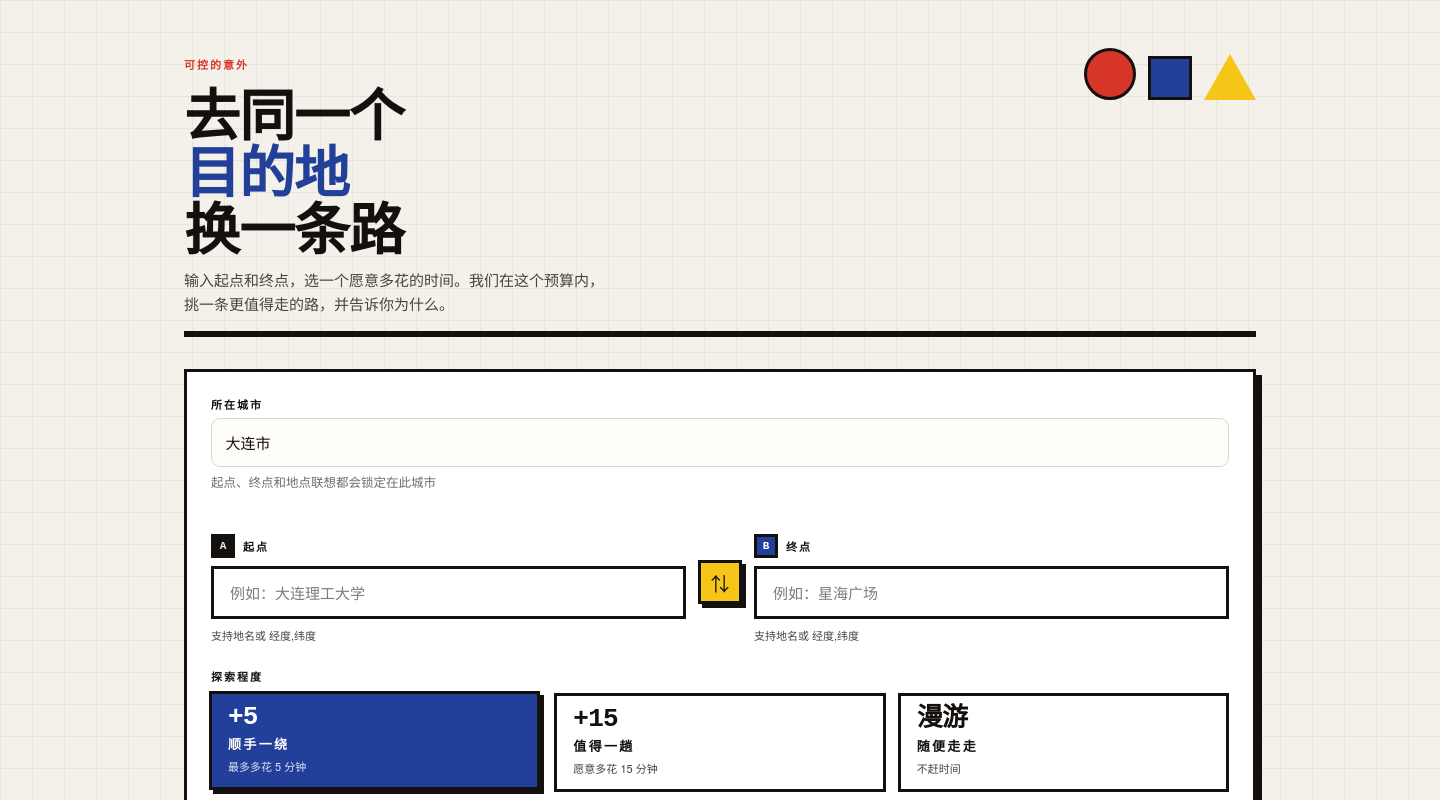
HomeView › swaps origin and destination
In the dropdown labelled "A 起点": [448, 593] box top-left (211, 566), bottom-right (686, 619), type "A地"
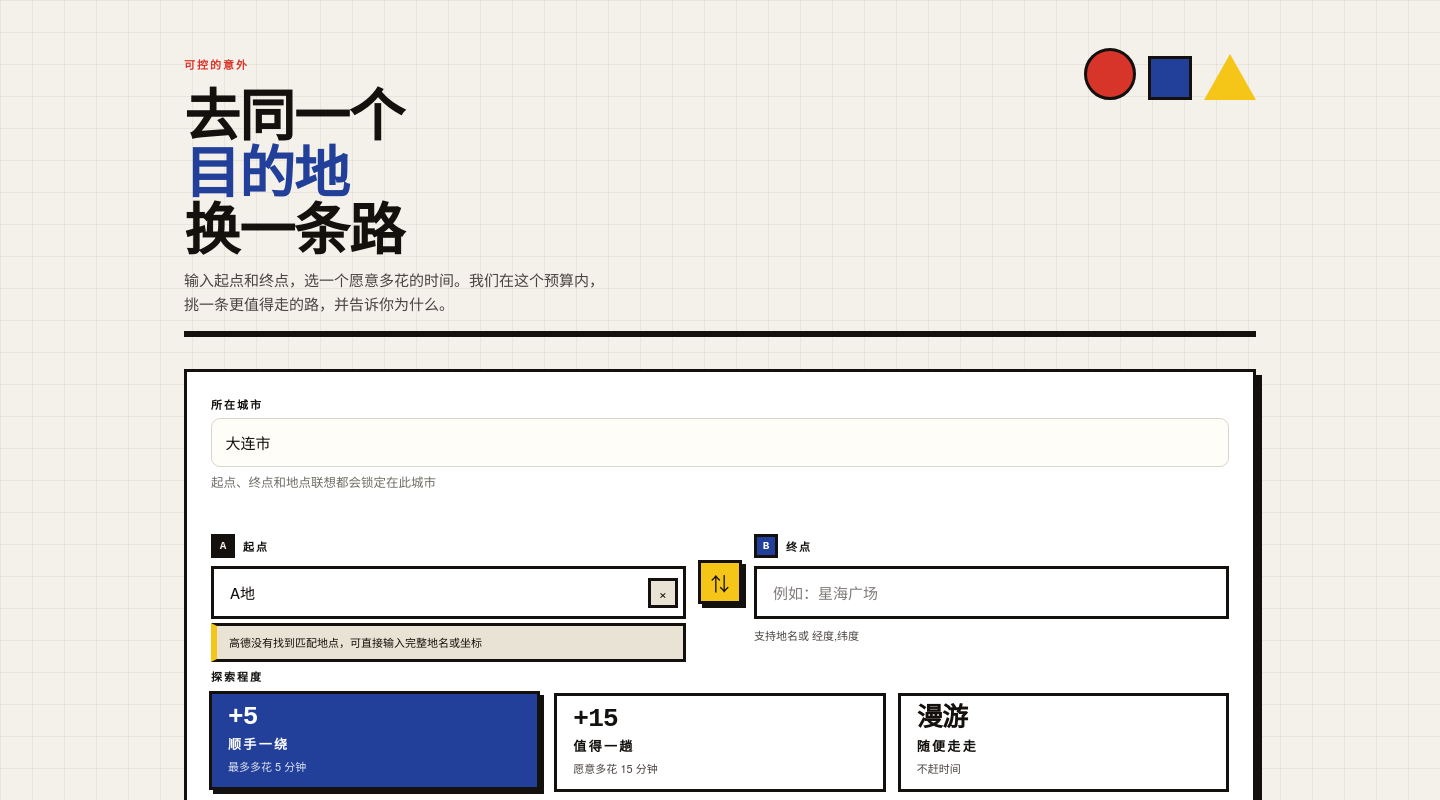
In the dropdown labelled "B 终点": [992, 593] box top-left (754, 566), bottom-right (1229, 619), type "B地"
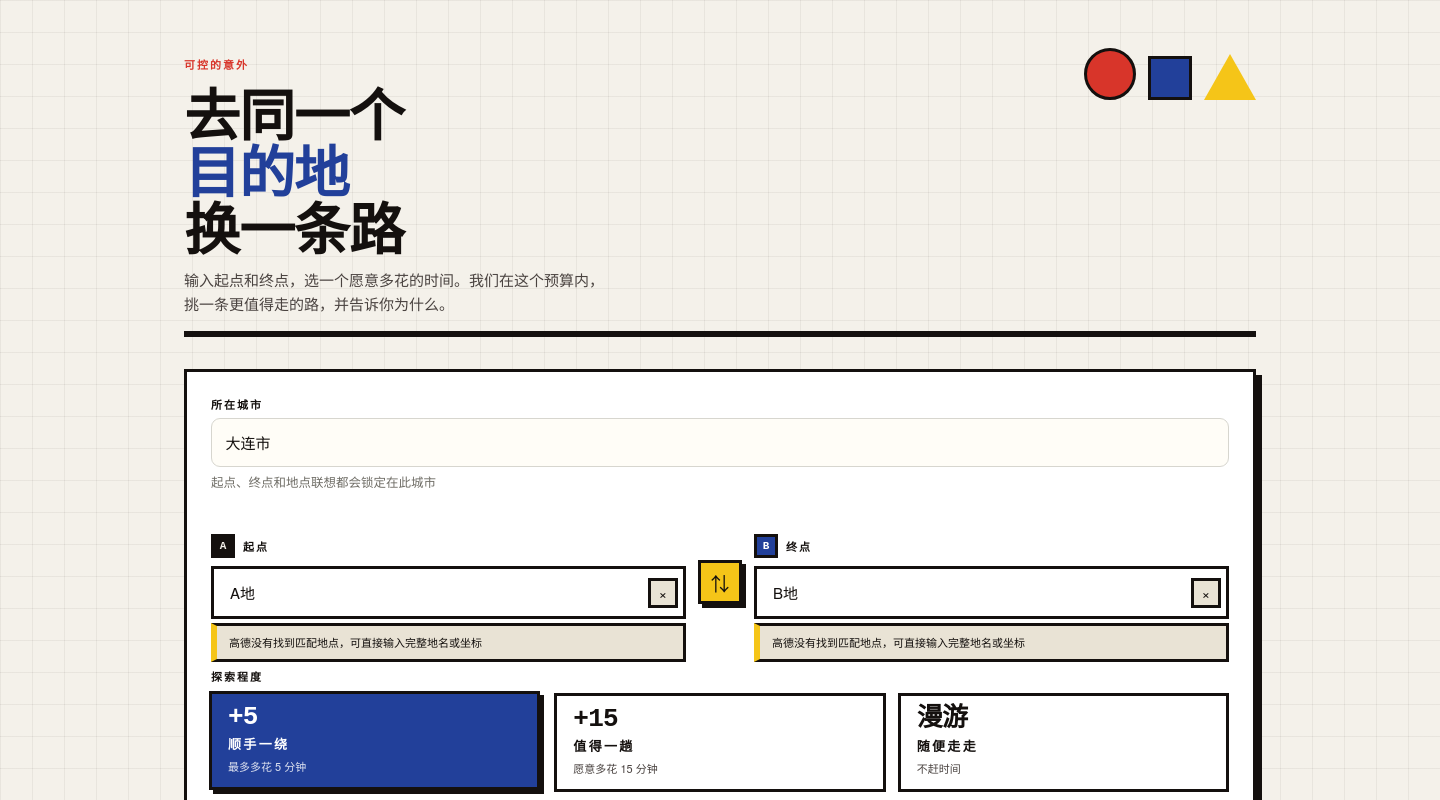
Click the button with class "home__swap": [720, 582] box top-left (698, 560), bottom-right (742, 604)
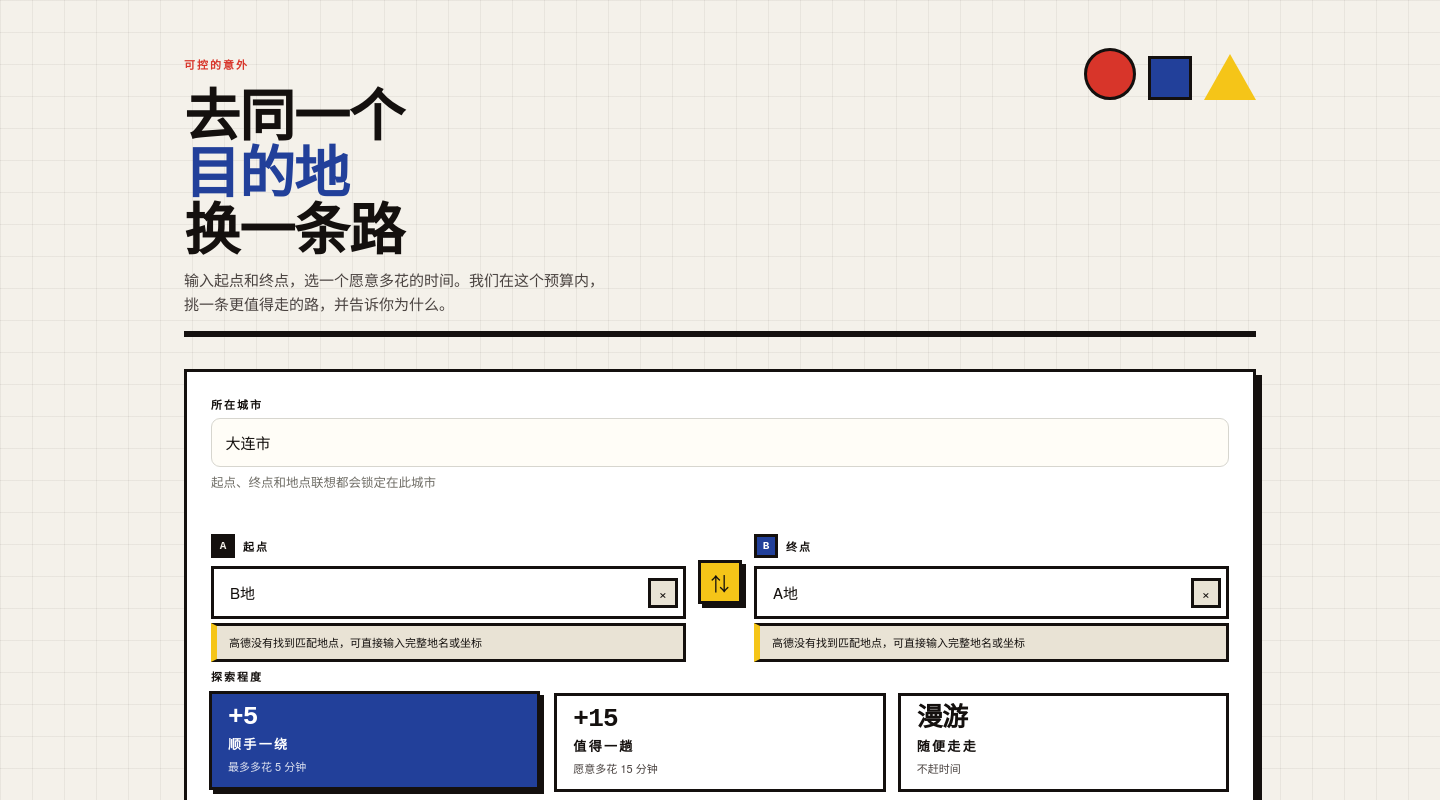
Expected: the dropdown labelled "A 起点" holds "B地", top-left (211, 566), bottom-right (686, 619)
Expected: the dropdown labelled "B 终点" holds "A地", top-left (754, 566), bottom-right (1229, 619)
